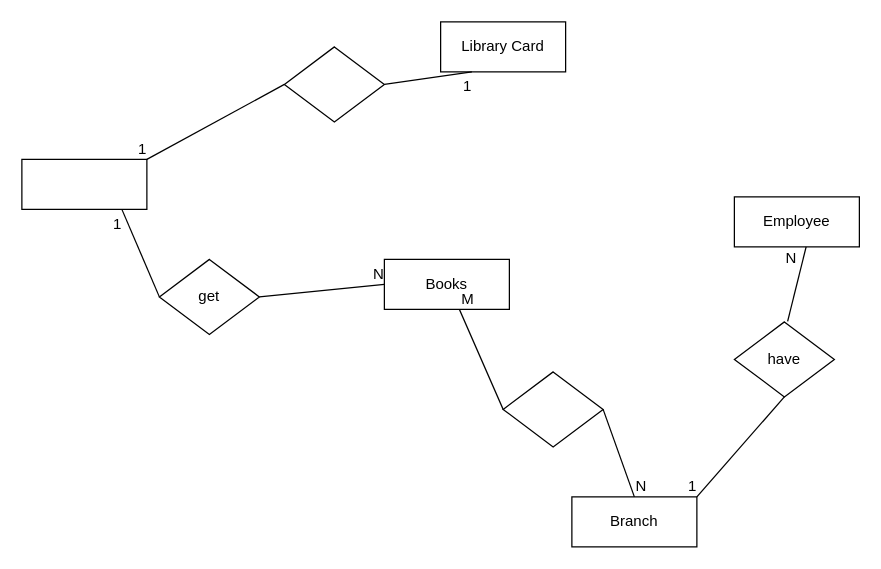
Image size: 881x569. Some labels were removed from this diagram. The shapes that lost their labels are listed below. From the top down, each one's centre as x and y in pixels, then its label:
At (333,84): "has".
At (84,183): "Customer".
At (552,409): "store".
